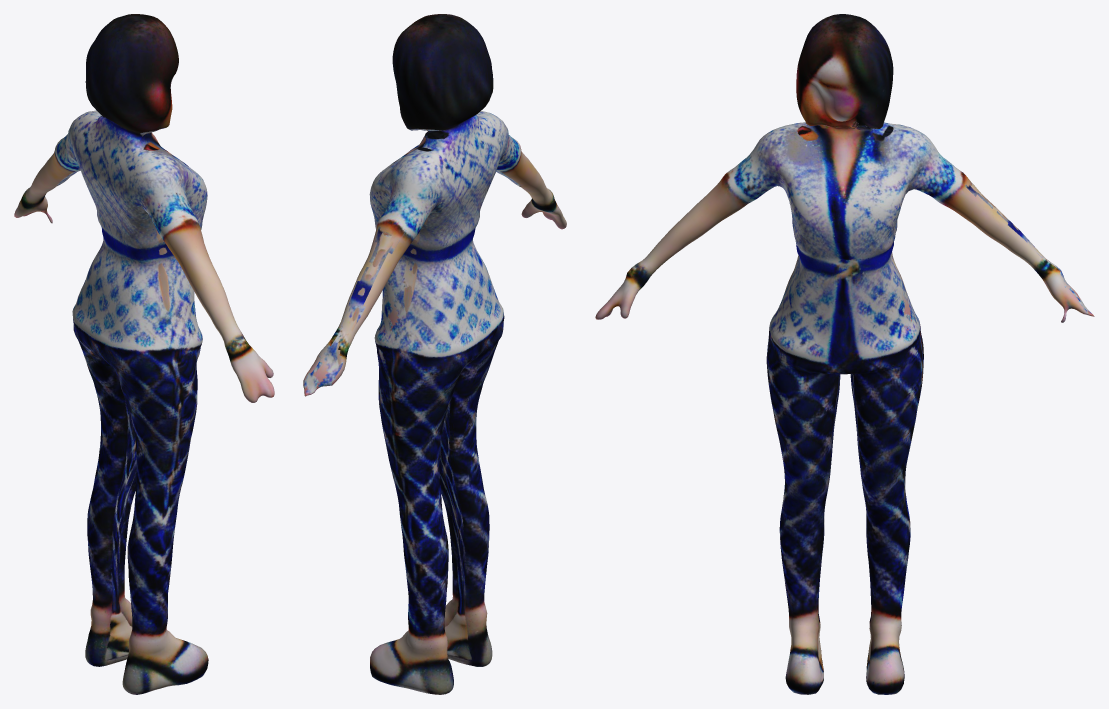
File: 3cad3fa58bd0_Da_Nang_Club_Women_.obj
The picture shows the model from 3 angles, left to right: view 1: azimuth 30°, elevation 25°; view 2: azimuth 150°, elevation 25°; view 3: azimuth 270°, elevation 25°; orthographic projection.
Parts seen in each view (by area): view 1: mesh; view 2: mesh; view 3: mesh.
Part boxes in pixels (bbox=[...]): mesh: bbox=[14, 14, 274, 694]; mesh: bbox=[303, 14, 566, 694]; mesh: bbox=[595, 14, 1094, 694].
Bounding box in the file's own units: 0.1646 × 0.9996 × 0.6857.
1 material, 1 textured.
